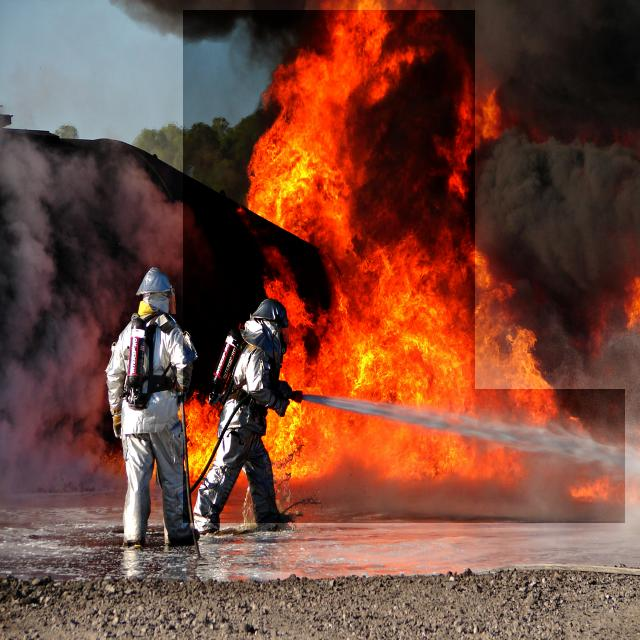Fire: (183, 10, 625, 523)
Smoke: (475, 0, 640, 389)
